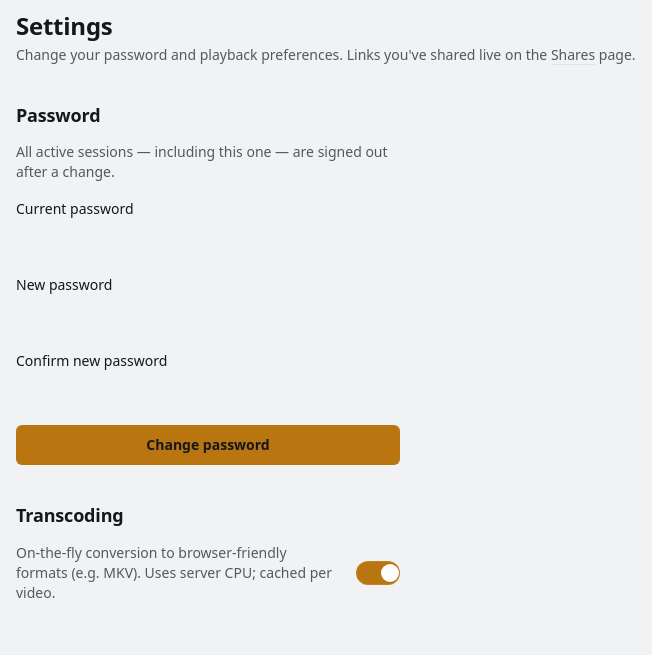
Scenario: SettingsPage transcoding section › reverts with an error notice when the PUT fails
The image size is (652, 655).
Click the switch named "transcoding" at {"x": 378, "y": 573}, box [356, 561, 400, 585]
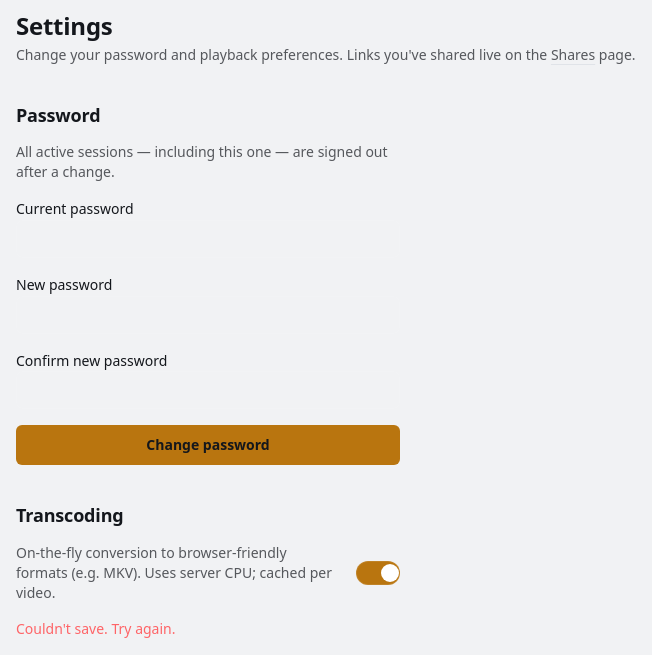
expect the text "Couldn't save. Try again." is shown: met, box [16, 619, 176, 638]
